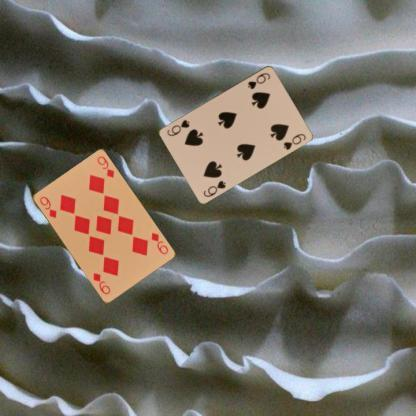6s: (200, 178, 228, 198), (245, 70, 272, 90)
9d: (148, 230, 170, 255), (37, 194, 58, 220)
